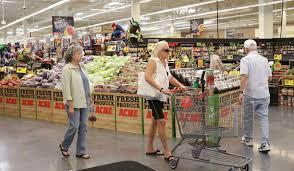Caution: (59, 38, 187, 160), (143, 37, 270, 155)
